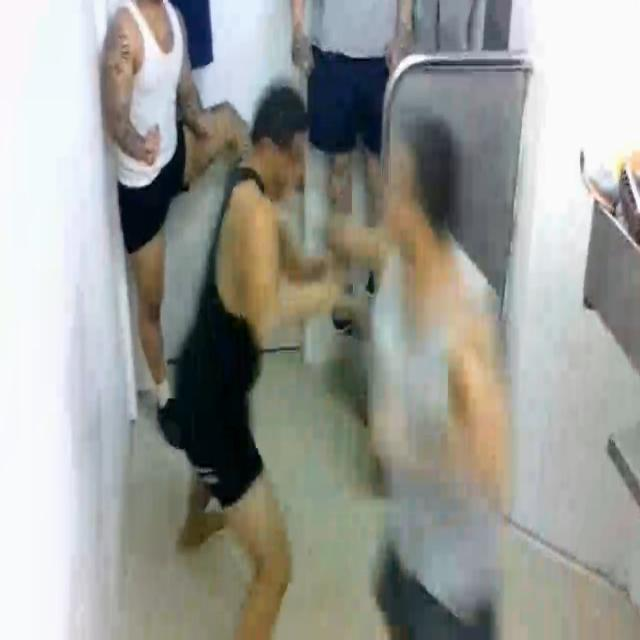fight: (178, 83, 514, 640)
